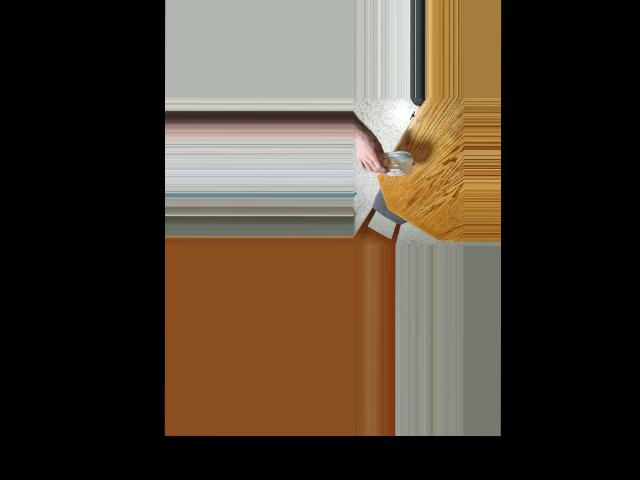cheese: (371, 141, 417, 182)
